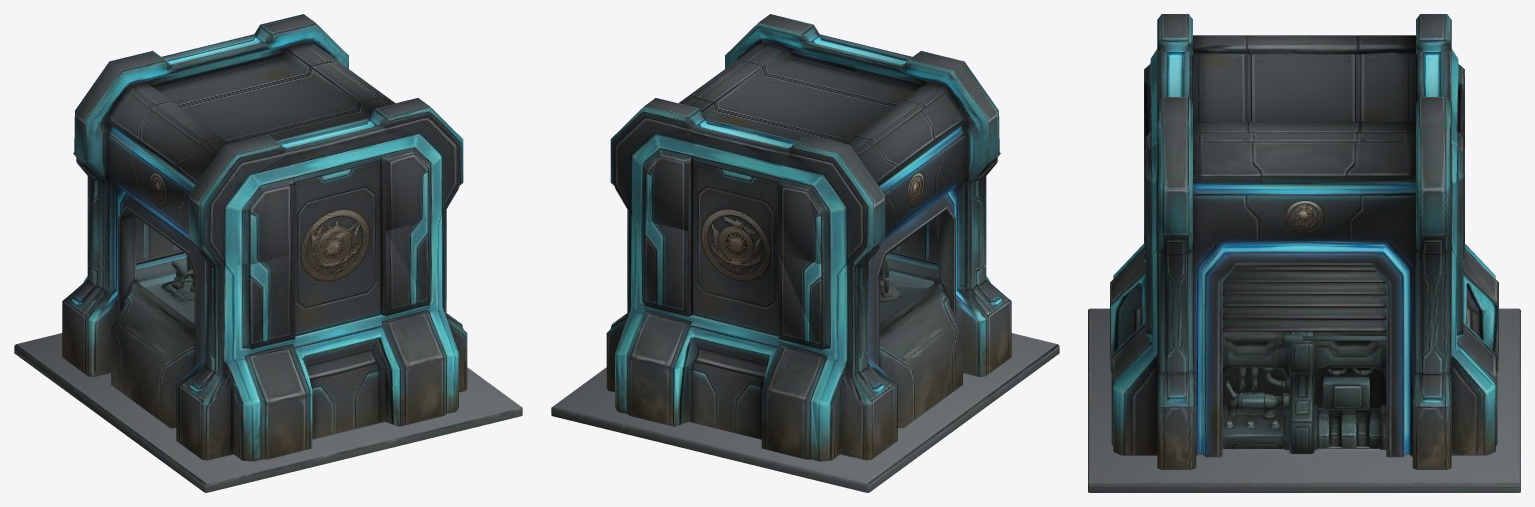
The model's file is mvd_war_factory.glb.
3 views of the same model, side by side, from view 1: azimuth 30°, elevation 25°; view 2: azimuth 150°, elevation 25°; view 3: azimuth 270°, elevation 25° (orthographic). The views are drawn at different scales.
Visible parts, largest first — view 1: Body, Trim; view 2: Body, Trim; view 3: Body, Trim.
Boxes of the visible parts, <box> form: Body: <box>14,14,522,492</box>; Trim: <box>71,23,463,461</box>; Body: <box>551,14,1059,492</box>; Trim: <box>615,29,1002,461</box>; Body: <box>1088,14,1520,492</box>; Trim: <box>1113,14,1497,456</box>.
Bounding box in the file's own units: 19.13 × 17.25 × 19.99.
2 materials, 2 textured.
